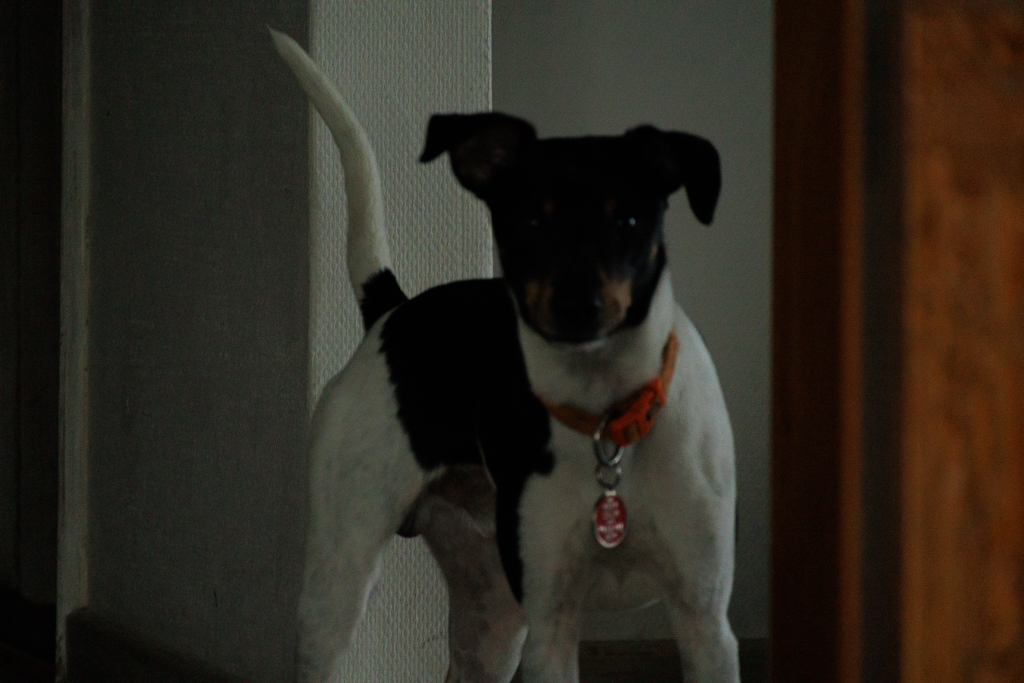Dog: (249, 14, 764, 683)
